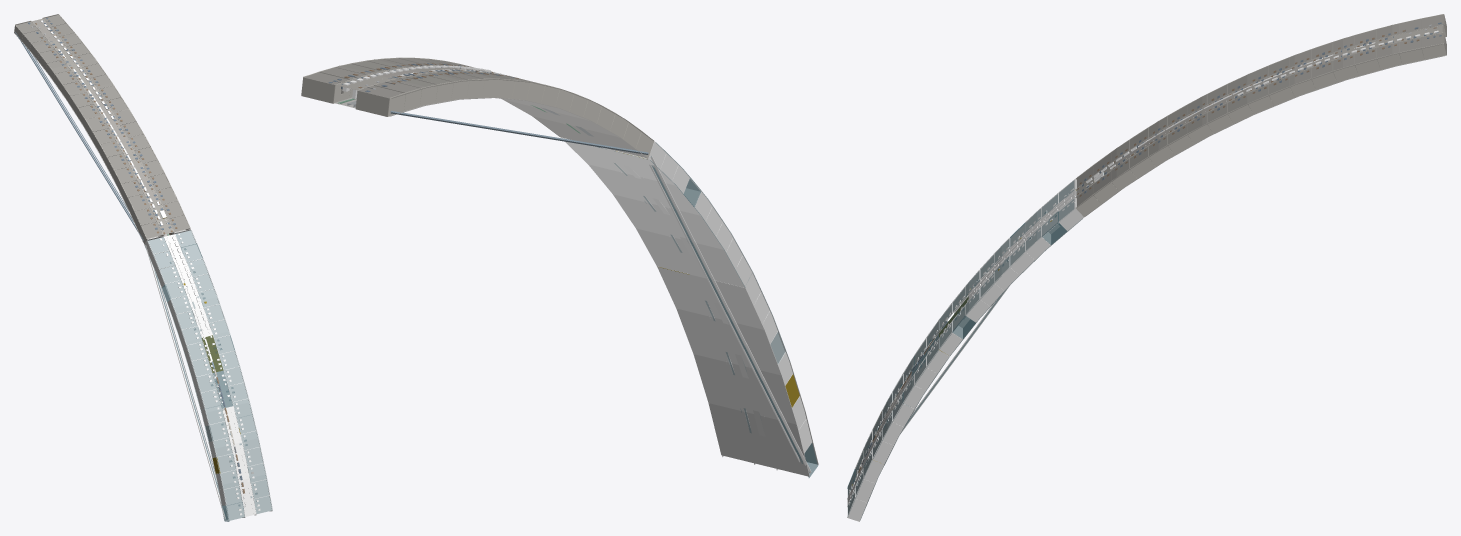
The model's file is xuanshu_interior_C38.glb.
3 renders of one model, left to right at view 1: azimuth 30°, elevation 25°; view 2: azimuth 150°, elevation 25°; view 3: azimuth 270°, elevation 25°, orthographic. The views are drawn at different scales.
Visible parts, largest first — view 1: UNIT-HAB-006_S0; view 2: UNIT-HAB-006_S0; view 3: UNIT-HAB-006_S0.
Boxes of the visible parts, x1,y1,x2,y2 form: UNIT-HAB-006_S0: (14, 14, 272, 521); UNIT-HAB-006_S0: (301, 57, 818, 477); UNIT-HAB-006_S0: (847, 14, 1446, 521).
Size of the model in its own units: 17.31 by 129 by 146.
